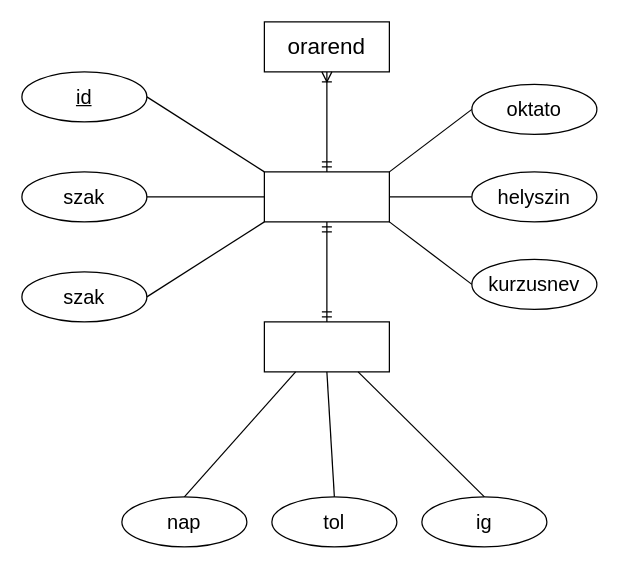
Some shapes in this 619 by 569 pixel diagram are drawn without their labels. Here are the shapes that lost their labels. From the top down, the centre of each, then its label:
(x=326, y=196): ora
(x=326, y=346): idopont
